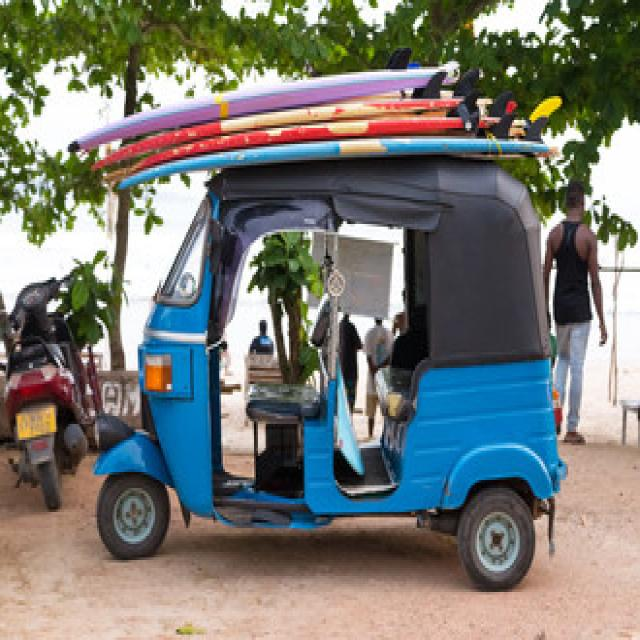motorcycle: (4, 280, 101, 512)
person: (543, 181, 605, 445), (365, 317, 390, 437), (339, 315, 361, 413), (250, 320, 272, 355)
three wheeler: (80, 69, 564, 589)
